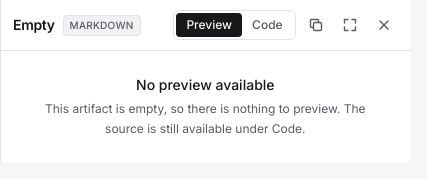
Test: ArtifactViewer: failures › reports an empty artifact and still offers the source
Expected: the text "This artifact is empty" is shown, [45, 101, 366, 136]
Click the tab "Code" at (267, 25), box [242, 13, 293, 37]
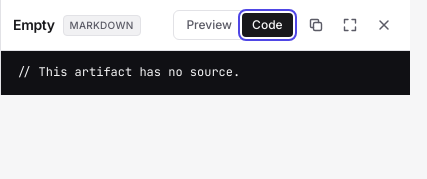
Expected: the panel shows "no source", [17, 64, 240, 80]
